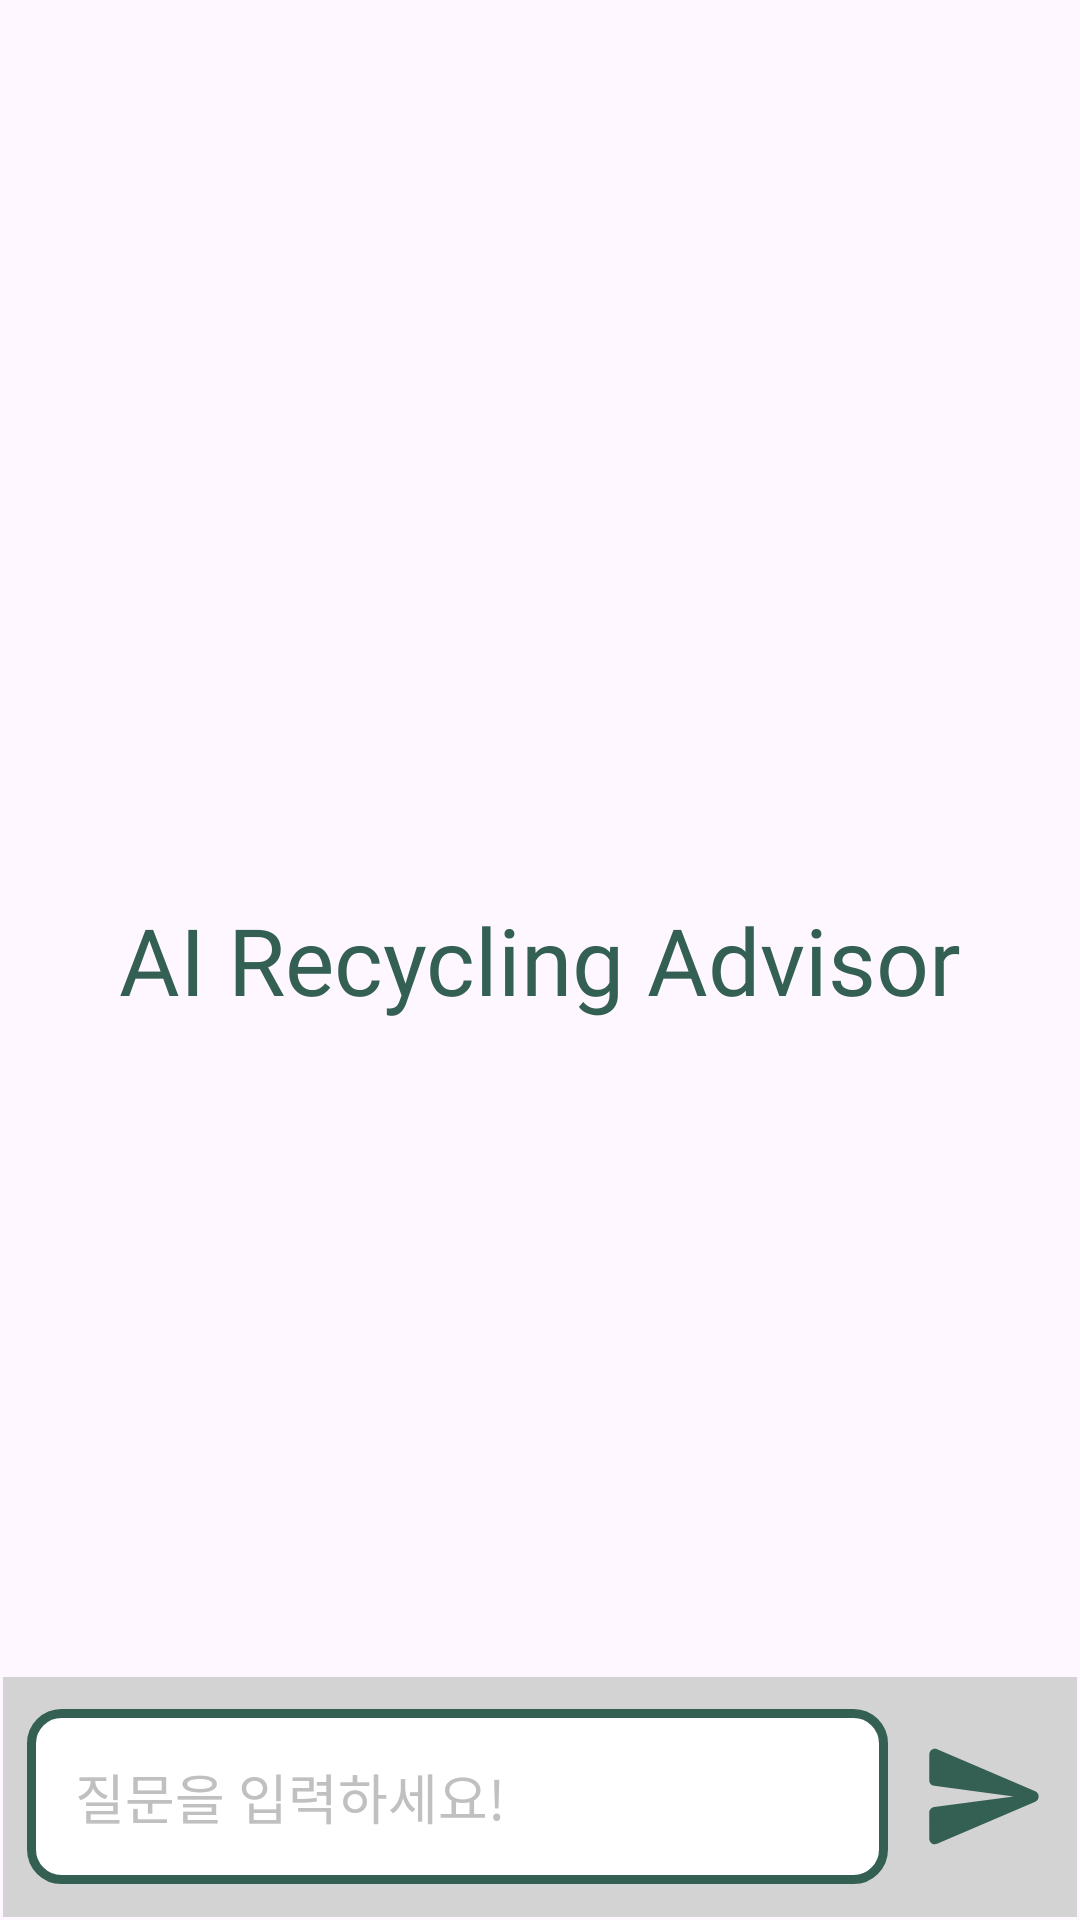

Named icons in this screenshot (1080*1920) and their centers, (x,y):
메시지 전송 버튼: (984,1796)
